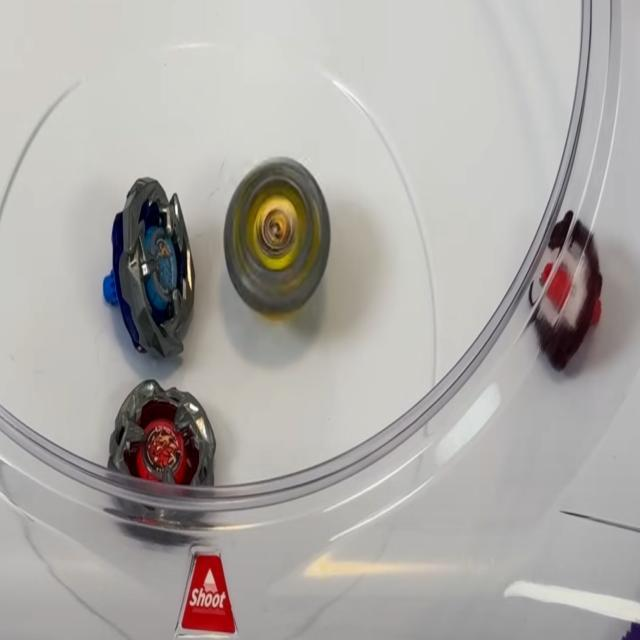Beyblade: (223, 159, 331, 317), (104, 179, 196, 358), (110, 381, 214, 501), (529, 214, 603, 370)
